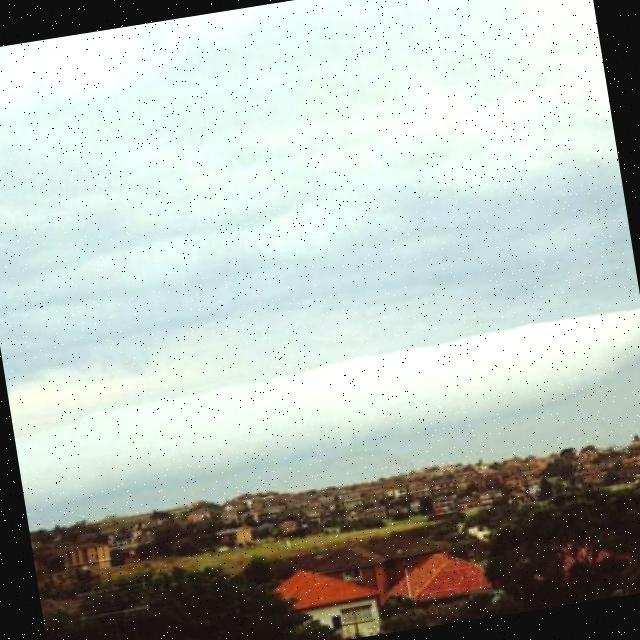Sc: (1, 1, 640, 497)
